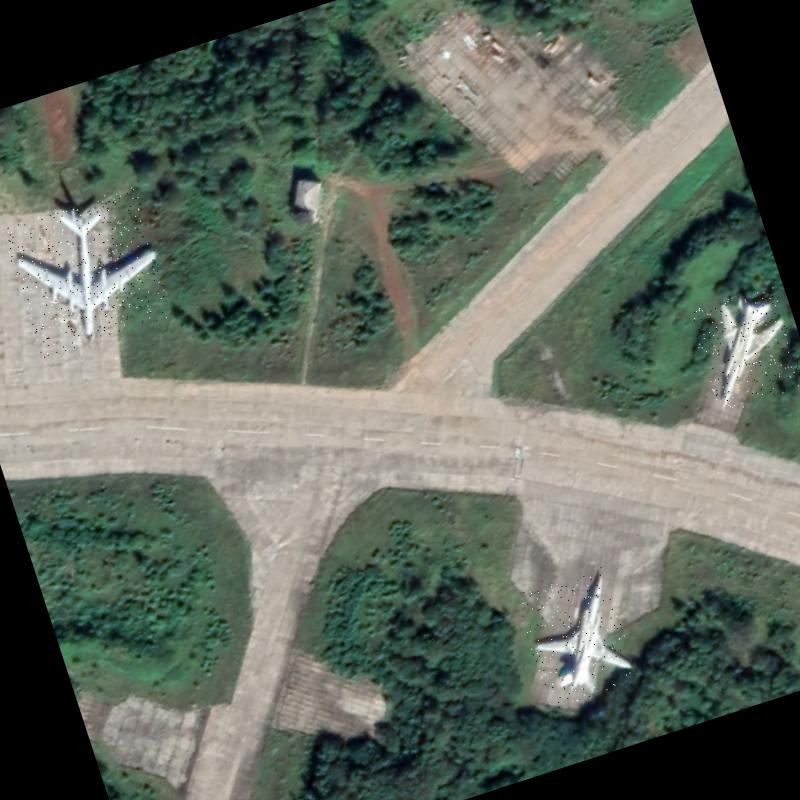A12: (514, 566, 640, 711), (687, 284, 800, 415)
A17: (1, 186, 176, 358)
